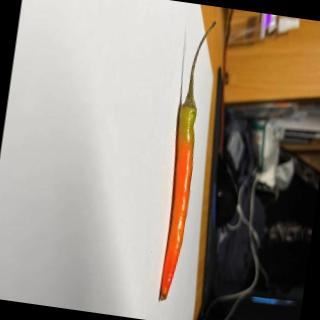Cabai Merah: (152, 17, 217, 304)
